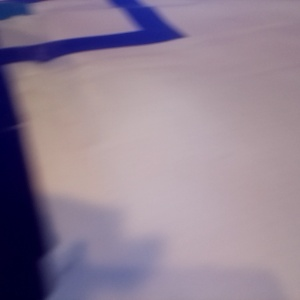bottom_left: (103, 14, 169, 33)
